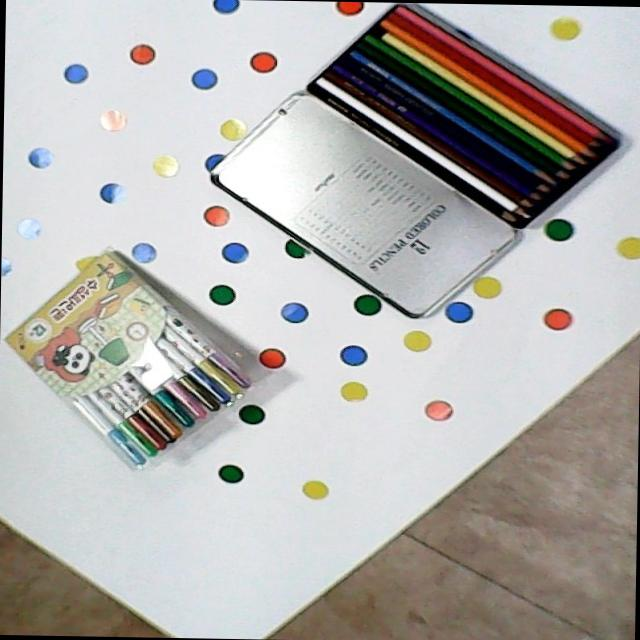color: (294, 2, 640, 241)
signpen: (0, 236, 272, 484)
